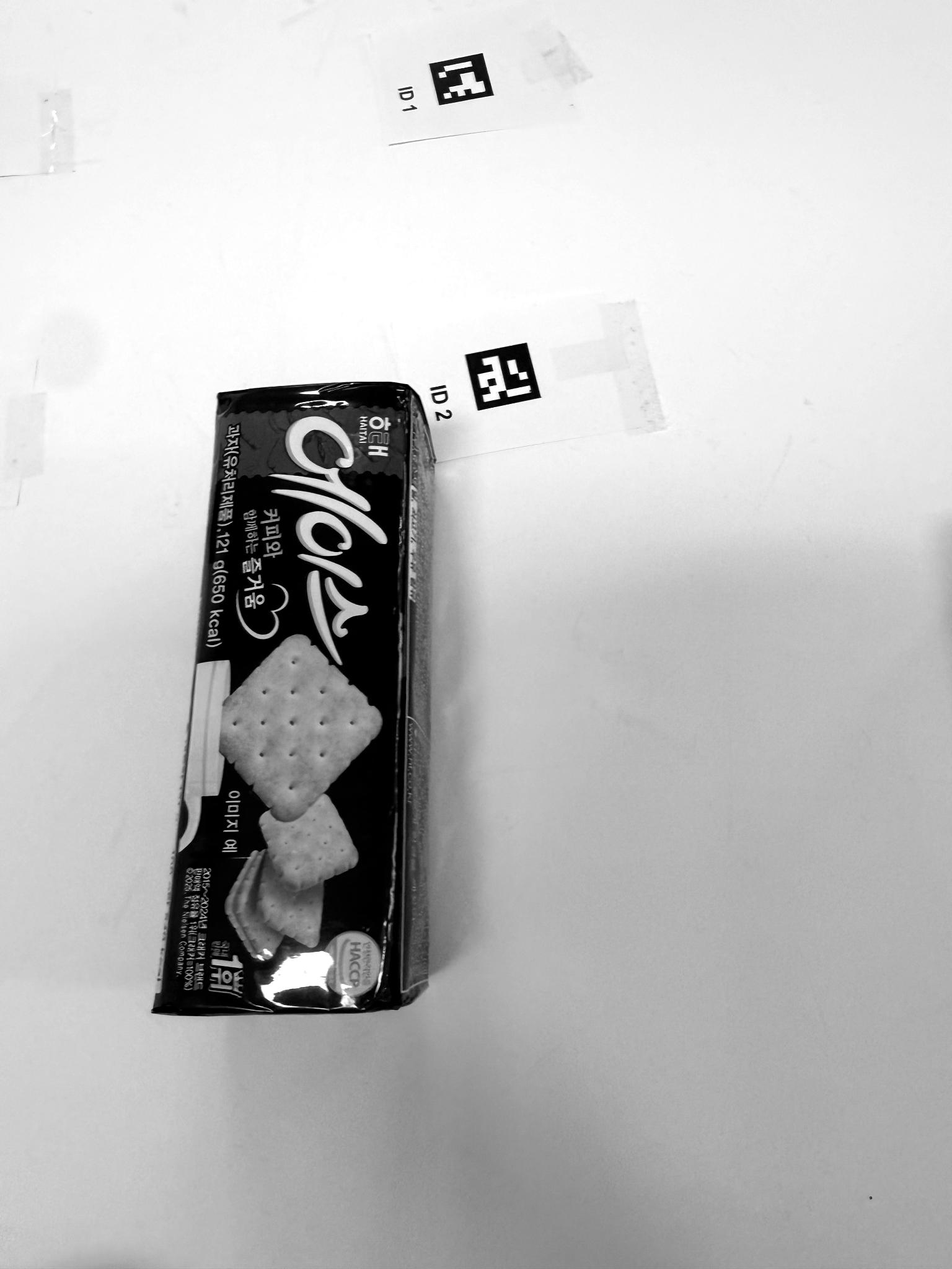cracker_ace: (155, 382, 434, 1017)
